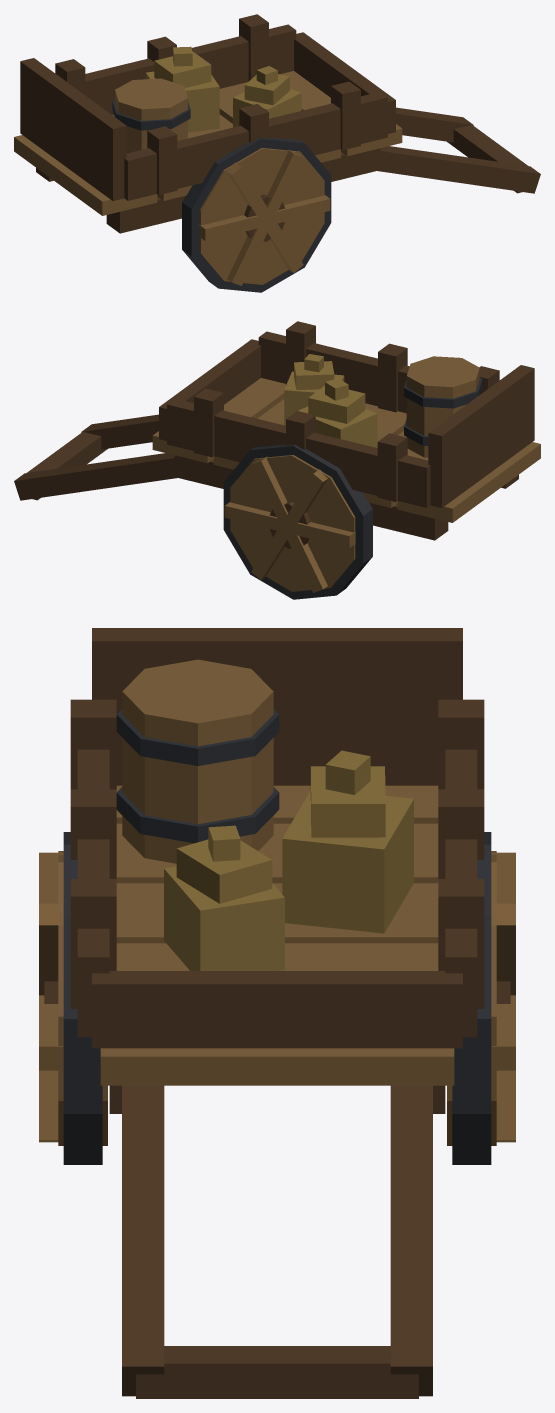
Rendered from cart.glb.
3 views of the same model, one above another, from view 1: azimuth 30°, elevation 25°; view 2: azimuth 150°, elevation 25°; view 3: azimuth 270°, elevation 25° (orthographic). The views are drawn at different scales.
Parts seen in each view (by area): view 1: timber, timber_light, thatch, iron_dark; view 2: timber, timber_light, iron_dark, thatch; view 3: timber, timber_light, thatch, iron_dark.
Boxes of the visible parts, box(x1,y1,x2,y2) form: timber: box(20, 14, 540, 241); timber_light: box(14, 71, 402, 285); thatch: box(146, 46, 301, 132); iron_dark: box(112, 99, 331, 292); timber: box(14, 321, 534, 548); timber_light: box(152, 356, 540, 592); iron_dark: box(223, 377, 482, 599); thatch: box(284, 354, 377, 447); timber: box(44, 628, 510, 1398); timber_light: box(39, 659, 515, 1145); thatch: box(164, 750, 413, 970); iron_dark: box(63, 709, 491, 1164).
Bounding box in the file's own units: 58.02 × 24.1 × 27.
